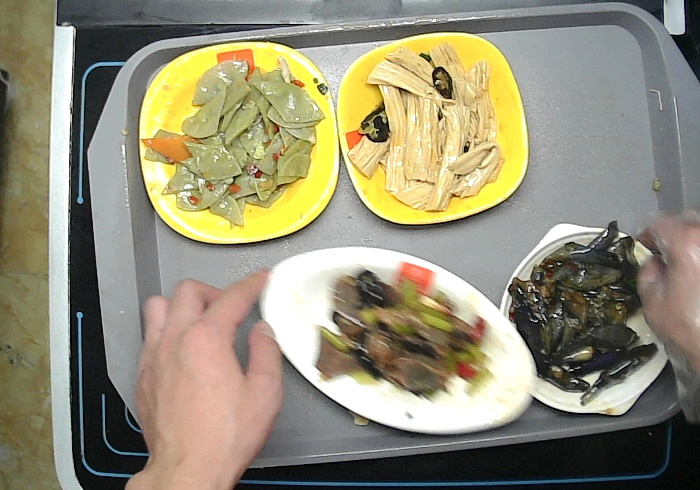SHKJ-Bao_Yu_Pan: (492, 221, 681, 421)
SHKJ-Huang_Se_Cai_Die: (334, 29, 531, 230)
SHKJ-Huang_Se_Si_Fang_Cai_Die: (135, 39, 342, 246)
SHKJ-Yu_Pan: (253, 242, 539, 440)
